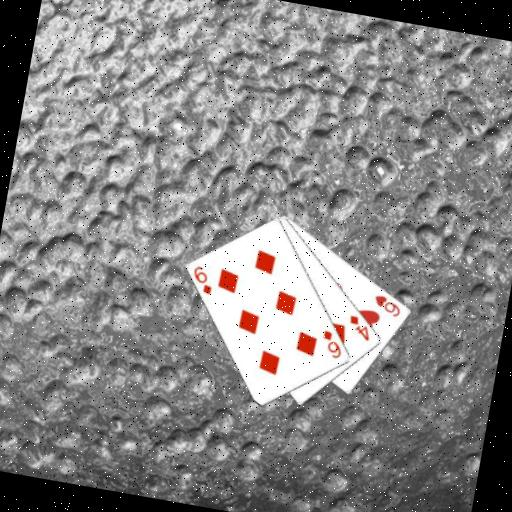4D: (343, 312, 375, 343)
6D: (187, 262, 217, 297), (316, 327, 346, 361)
6H: (369, 290, 405, 319)
